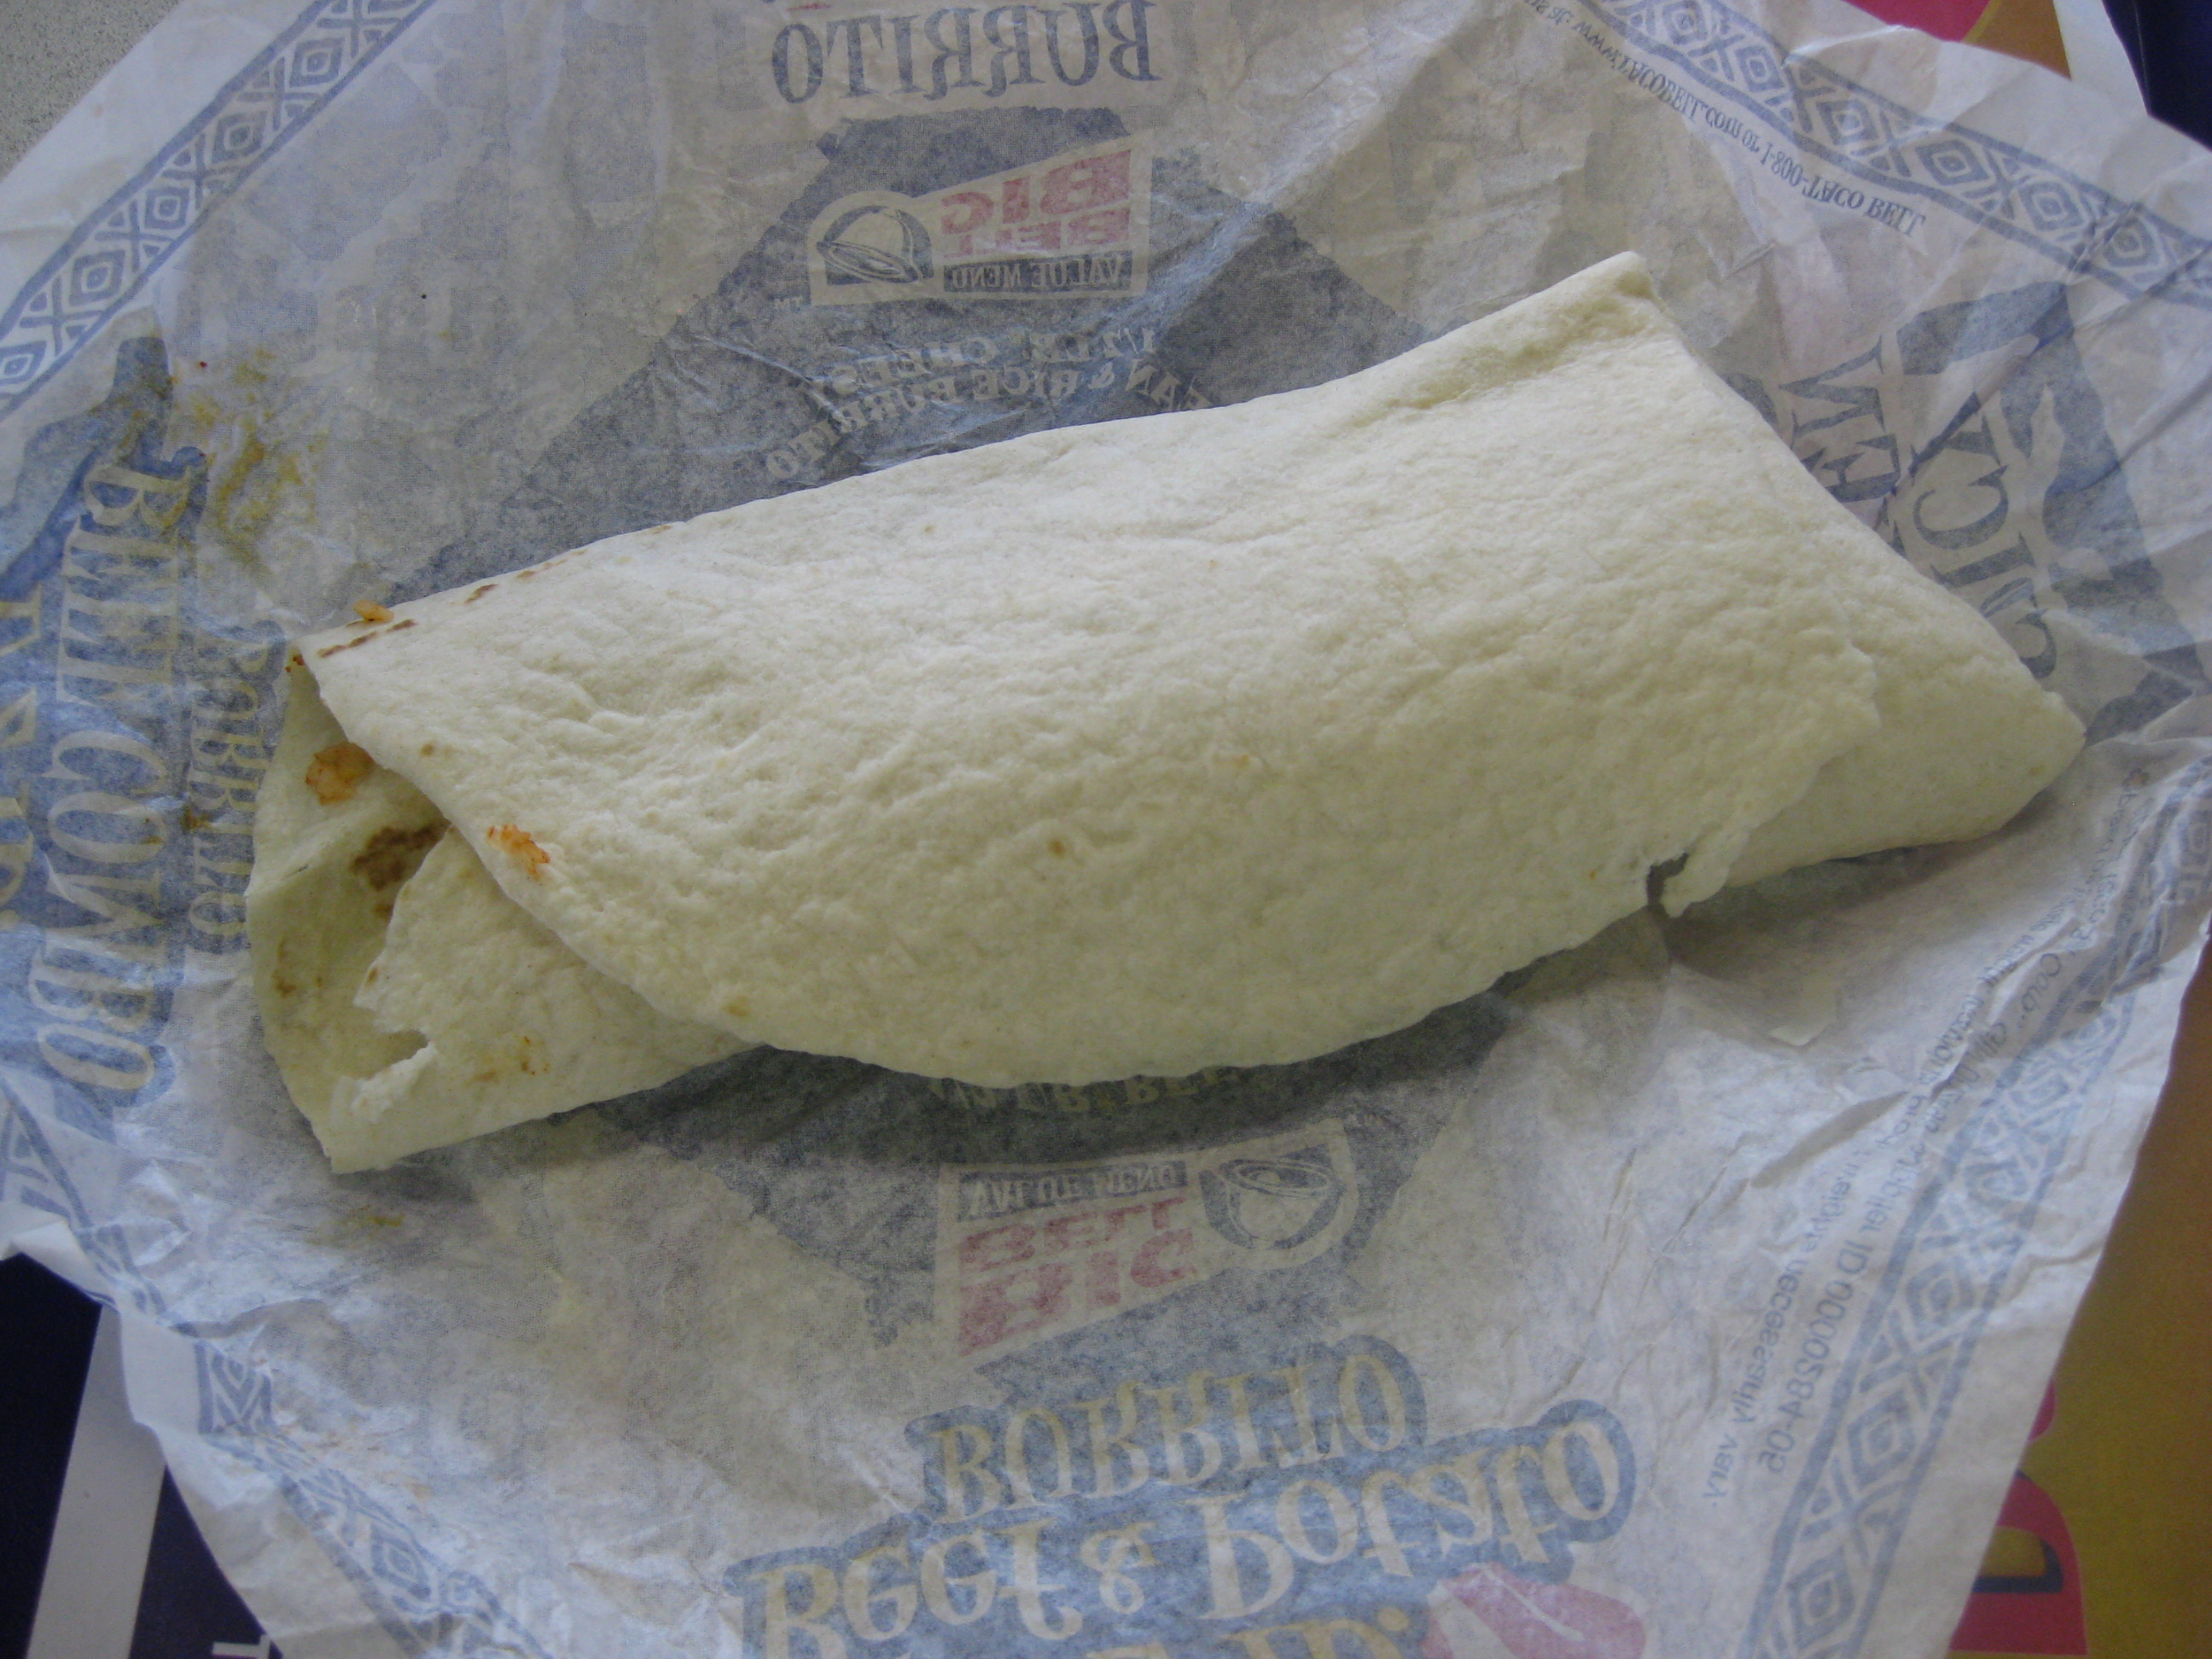burrito: (161, 236, 2111, 1126)
